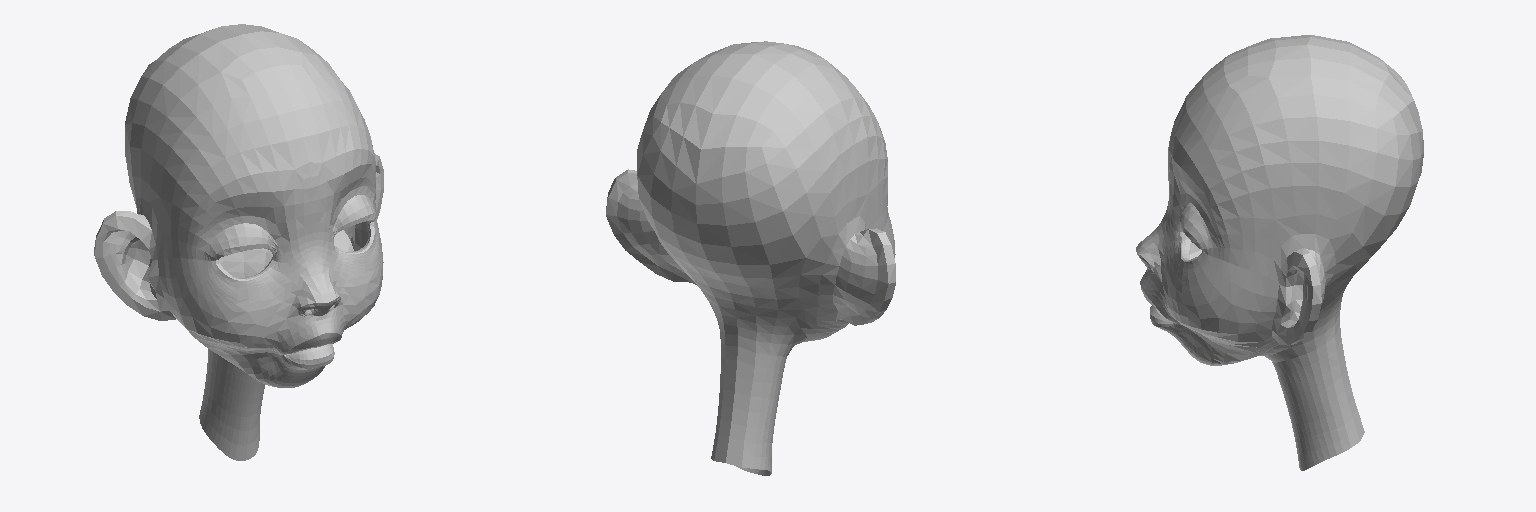
File: cheekSuck.obj
3 views of the same model, side by side, from view 1: azimuth 30°, elevation 25°; view 2: azimuth 150°, elevation 25°; view 3: azimuth 270°, elevation 25° (orthographic).
Parts seen in each view (by area): view 1: ZBrushPolyMesh3D; view 2: ZBrushPolyMesh3D; view 3: ZBrushPolyMesh3D.
Boxes of the visible parts, x1=… form: ZBrushPolyMesh3D: x1=94, y1=24, x2=383, y2=460; ZBrushPolyMesh3D: x1=606, y1=41, x2=895, y2=475; ZBrushPolyMesh3D: x1=1136, y1=35, x2=1423, y2=470.
Size of the model in its own units: 5.74 by 8.03 by 4.96.